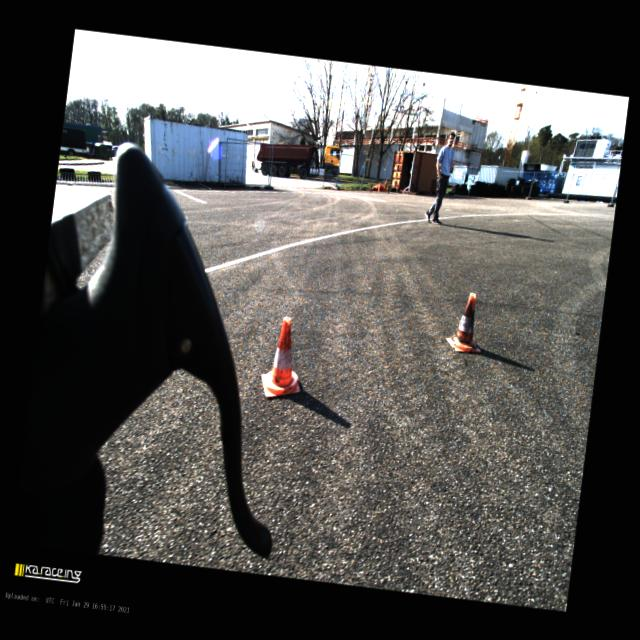large_orange_cone: (377, 182, 381, 191)
orange_cone: (258, 314, 308, 400), (443, 290, 488, 354), (384, 178, 388, 183)
